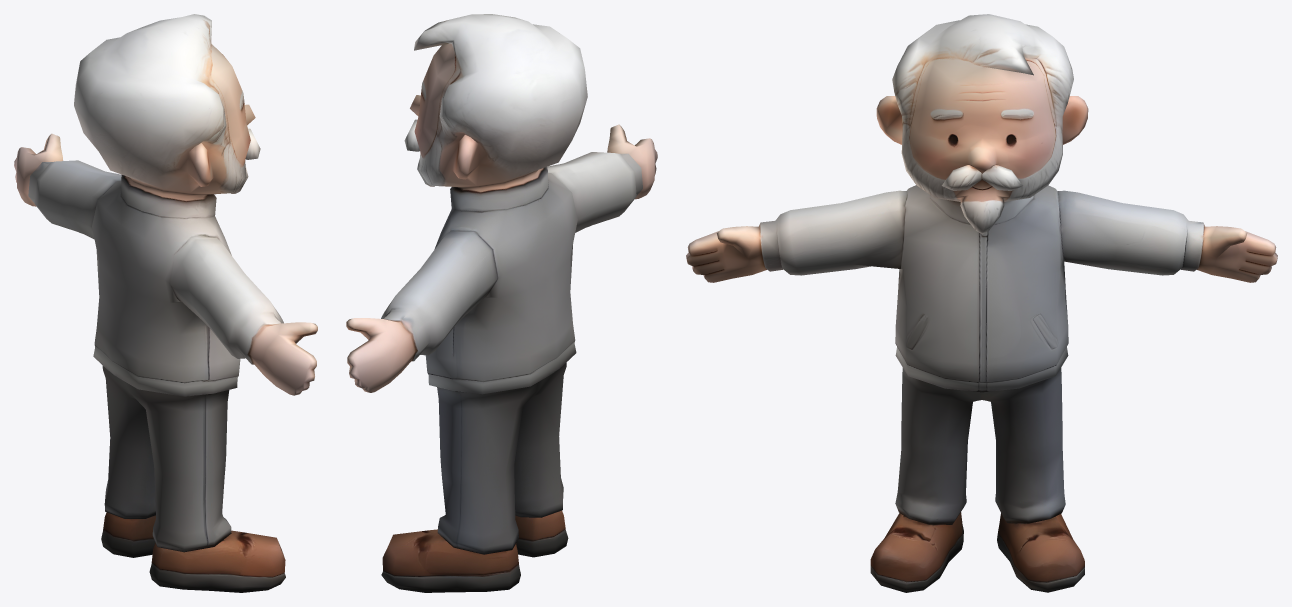
3 renders of one model, left to right at view 1: azimuth 30°, elevation 25°; view 2: azimuth 150°, elevation 25°; view 3: azimuth 270°, elevation 25°, orthographic. The views are drawn at different scales.
Parts seen in each view (by area): view 1: tripo_node_00d2e407-9782-40b3-8ea5-030f33f4c63a; view 2: tripo_node_00d2e407-9782-40b3-8ea5-030f33f4c63a; view 3: tripo_node_00d2e407-9782-40b3-8ea5-030f33f4c63a.
Boxes of the visible parts, bbox=[...] form: tripo_node_00d2e407-9782-40b3-8ea5-030f33f4c63a: bbox=[14, 14, 317, 592]; tripo_node_00d2e407-9782-40b3-8ea5-030f33f4c63a: bbox=[346, 14, 657, 592]; tripo_node_00d2e407-9782-40b3-8ea5-030f33f4c63a: bbox=[686, 14, 1277, 592].
Bounding box in the file's own units: 0.3188 × 0.9995 × 0.9995.
1 material, 1 textured.
